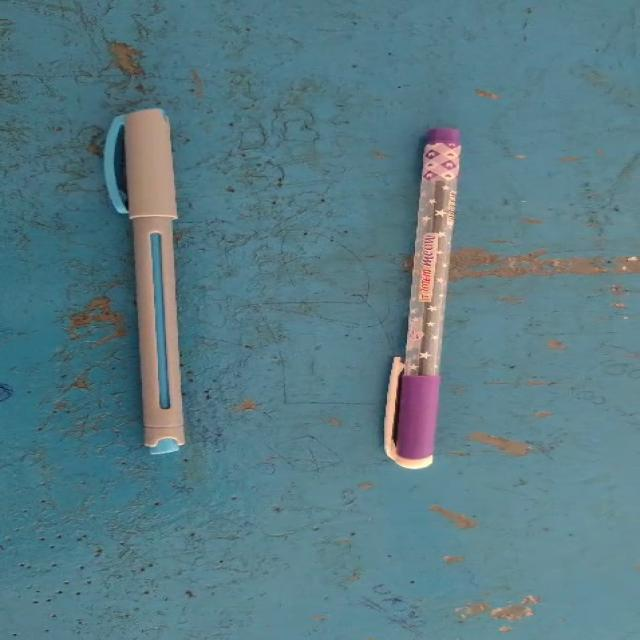pen: (61, 78, 248, 476), (348, 93, 514, 498)
